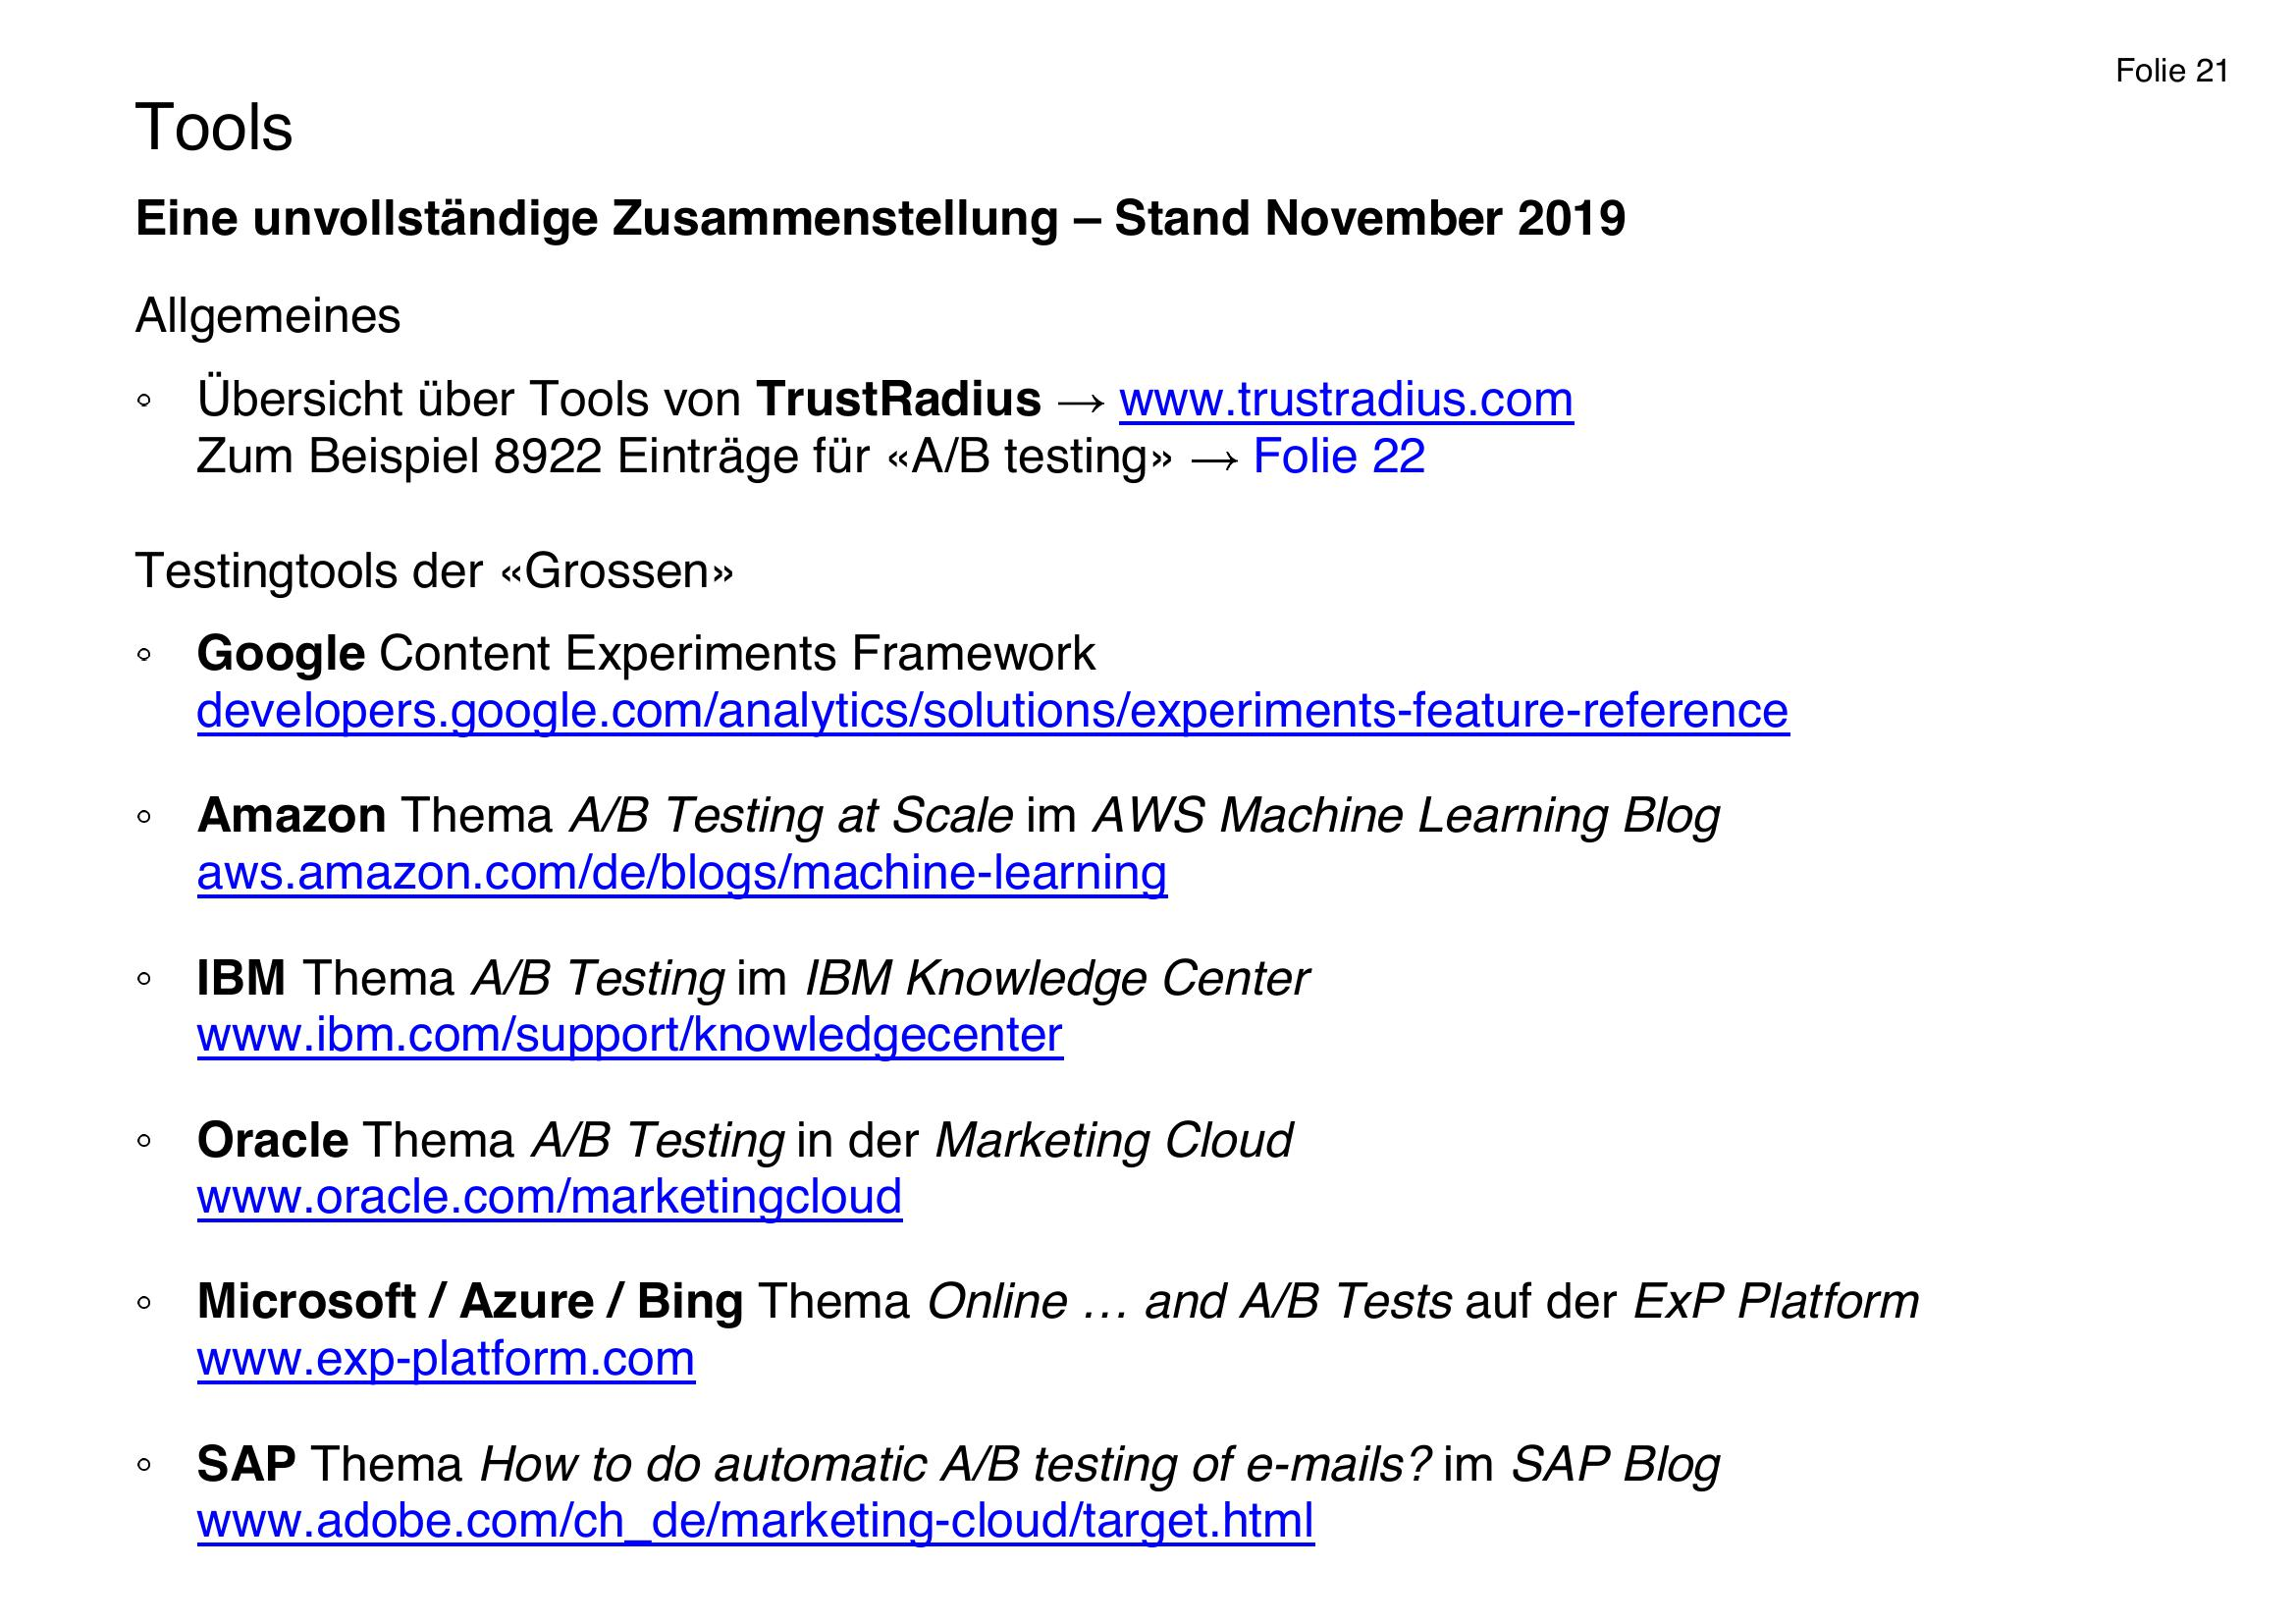Title: (112, 86, 309, 172)
